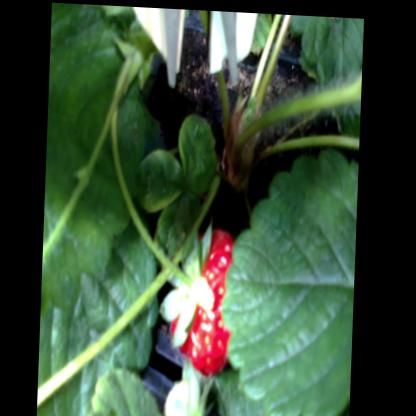ripe: (147, 203, 259, 373)
